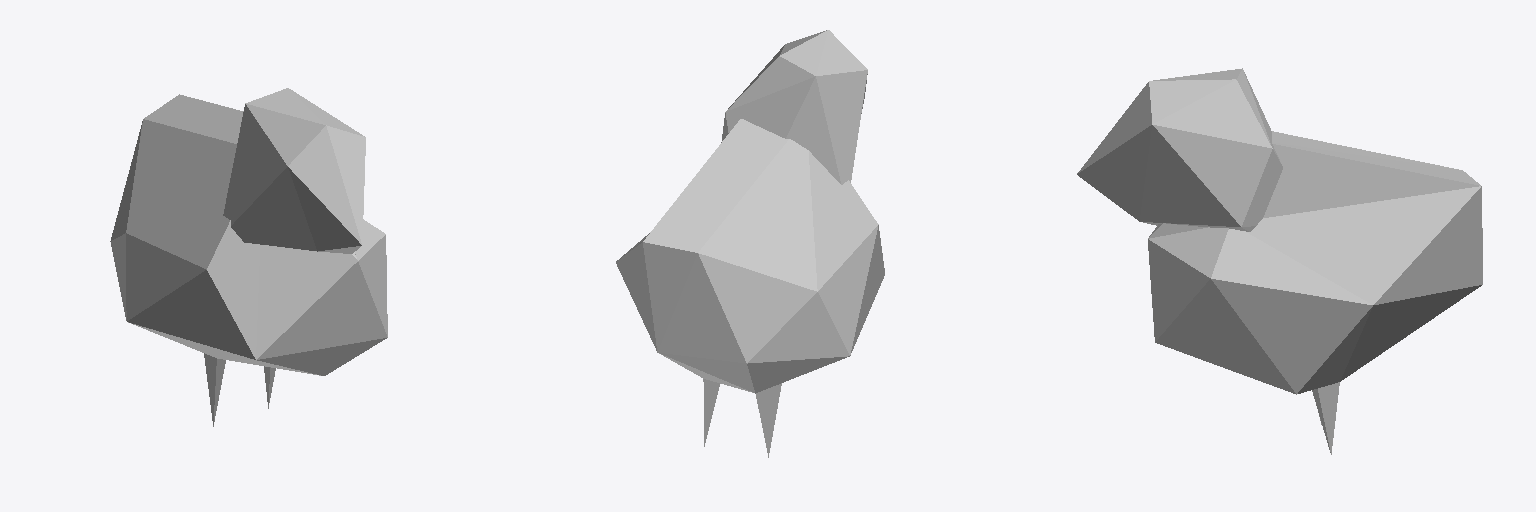
The model's file is achiken.obj.
3 views of the same model, side by side, from view 1: azimuth 30°, elevation 25°; view 2: azimuth 150°, elevation 25°; view 3: azimuth 270°, elevation 25° (orthographic).
Parts seen in each view (by area): view 1: achiken_Cube.039; view 2: achiken_Cube.039; view 3: achiken_Cube.039.
Boxes of the visible parts, <box> form: achiken_Cube.039: <box>110,88,387,426</box>; achiken_Cube.039: <box>616,30,884,457</box>; achiken_Cube.039: <box>1077,68,1482,454</box>.
Size of the model in its own units: 0.1643 by 0.2695 by 0.2736.